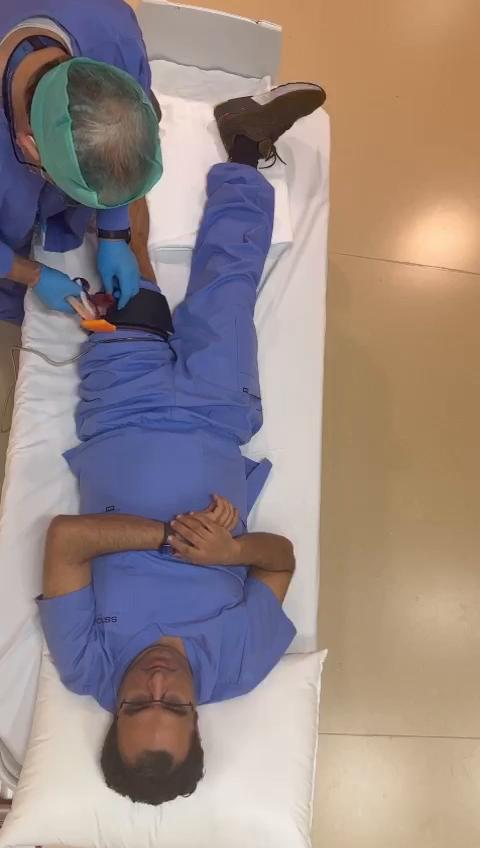patient: (38, 86, 323, 802)
tourniquet: (66, 280, 174, 339)
